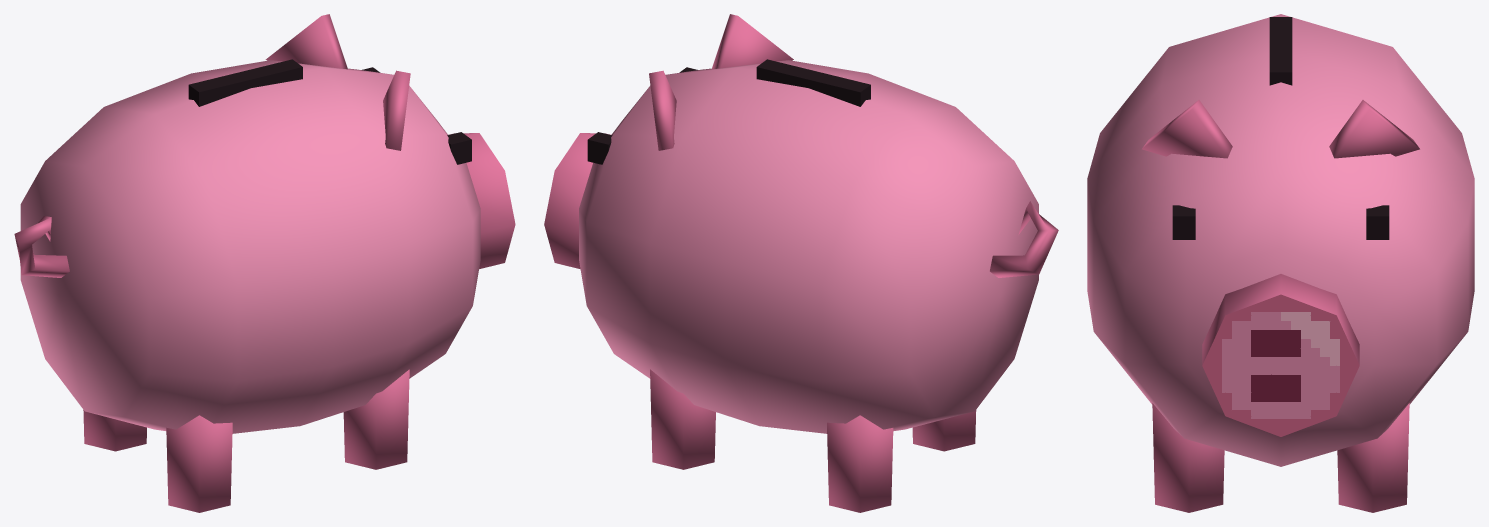
Rendered from money-piggyBank.glb.
The picture shows the model from 3 angles, left to right: view 1: azimuth 30°, elevation 25°; view 2: azimuth 150°, elevation 25°; view 3: azimuth 270°, elevation 25°; orthographic projection. The views are drawn at different scales.
Visible parts, largest first — view 1: money.piggyBank; view 2: money.piggyBank; view 3: money.piggyBank.
Boxes of the visible parts, x1,y1,x2,y2 form: money.piggyBank: (14, 14, 515, 512); money.piggyBank: (544, 14, 1058, 512); money.piggyBank: (1087, 14, 1474, 512).
Bounding box in the file's own units: 1.9 × 1.45 × 1.24.
4 materials, 1 textured.
